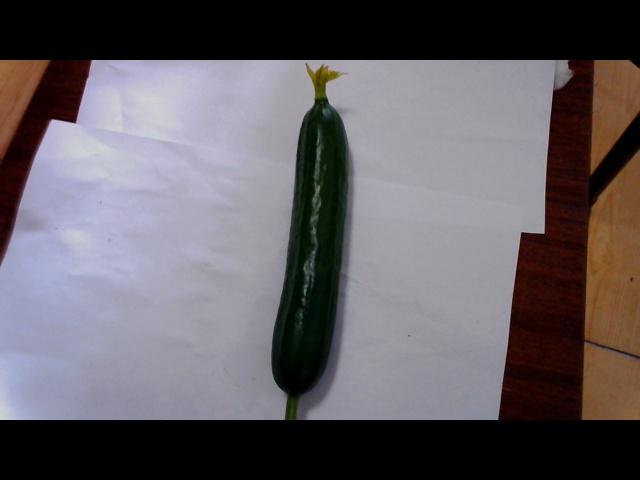cucumber: (259, 80, 358, 418)
